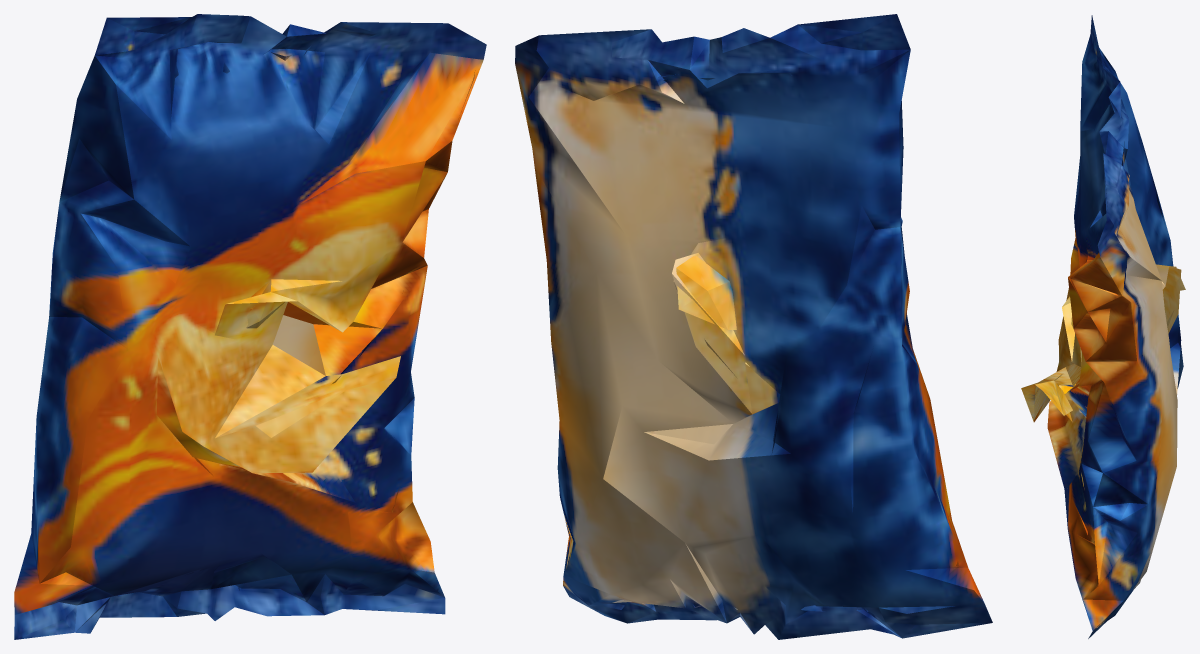
The model's file is item-chips.glb.
The picture shows the model from 3 angles, left to right: view 1: azimuth 30°, elevation 25°; view 2: azimuth 150°, elevation 25°; view 3: azimuth 270°, elevation 25°; orthographic projection. The views are drawn at different scales.
Visible parts, largest first — view 1: chips; view 2: chips; view 3: chips.
Boxes of the visible parts, x1=… form: chips: x1=14, y1=14, x2=486, y2=639; chips: x1=515, y1=14, x2=992, y2=639; chips: x1=1021, y1=15, x2=1185, y2=638.
Size of the model in its own units: 0.2 by 0.27 by 0.08.
Materials: 1 (1 with a texture image).
